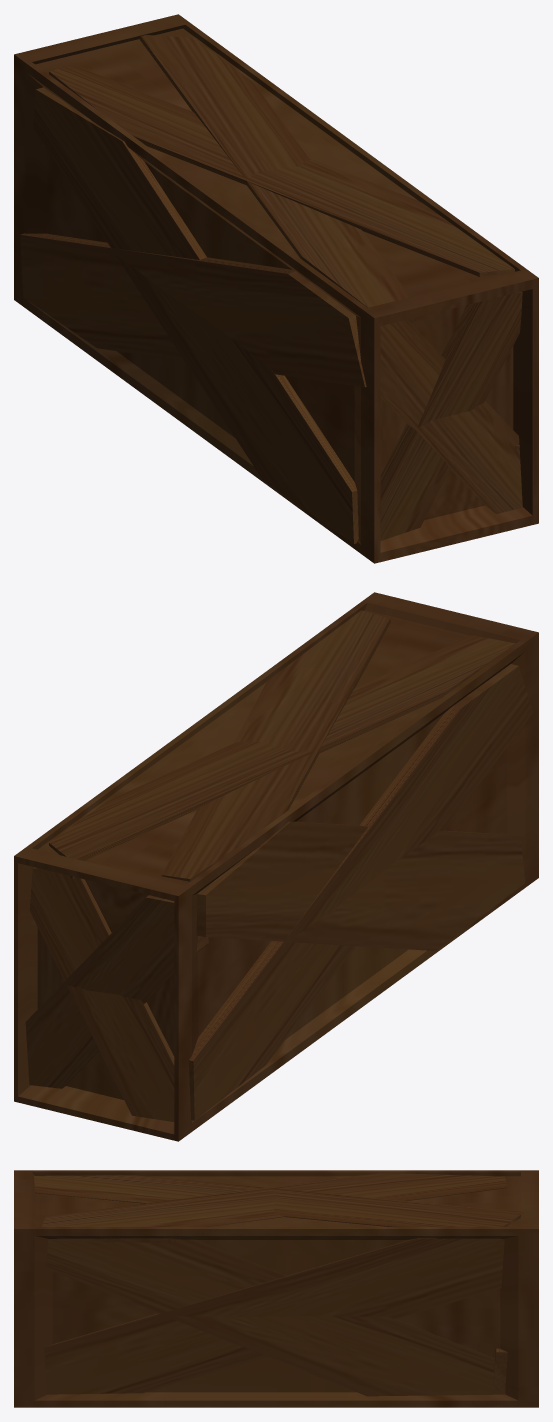
File: CaisseMurret.fbx
3 views of the same model, one above another, from view 1: azimuth 30°, elevation 25°; view 2: azimuth 150°, elevation 25°; view 3: azimuth 270°, elevation 25° (orthographic). The views are drawn at different scales.
Visible parts, largest first — view 1: CaisseMurret; view 2: CaisseMurret; view 3: CaisseMurret.
Boxes of the visible parts, x1=… form: CaisseMurret: x1=14, y1=14, x2=538, y2=563; CaisseMurret: x1=14, y1=592, x2=538, y2=1141; CaisseMurret: x1=14, y1=1170, x2=538, y2=1407.
Size of the model in its own units: 205 by 285 by 759.
